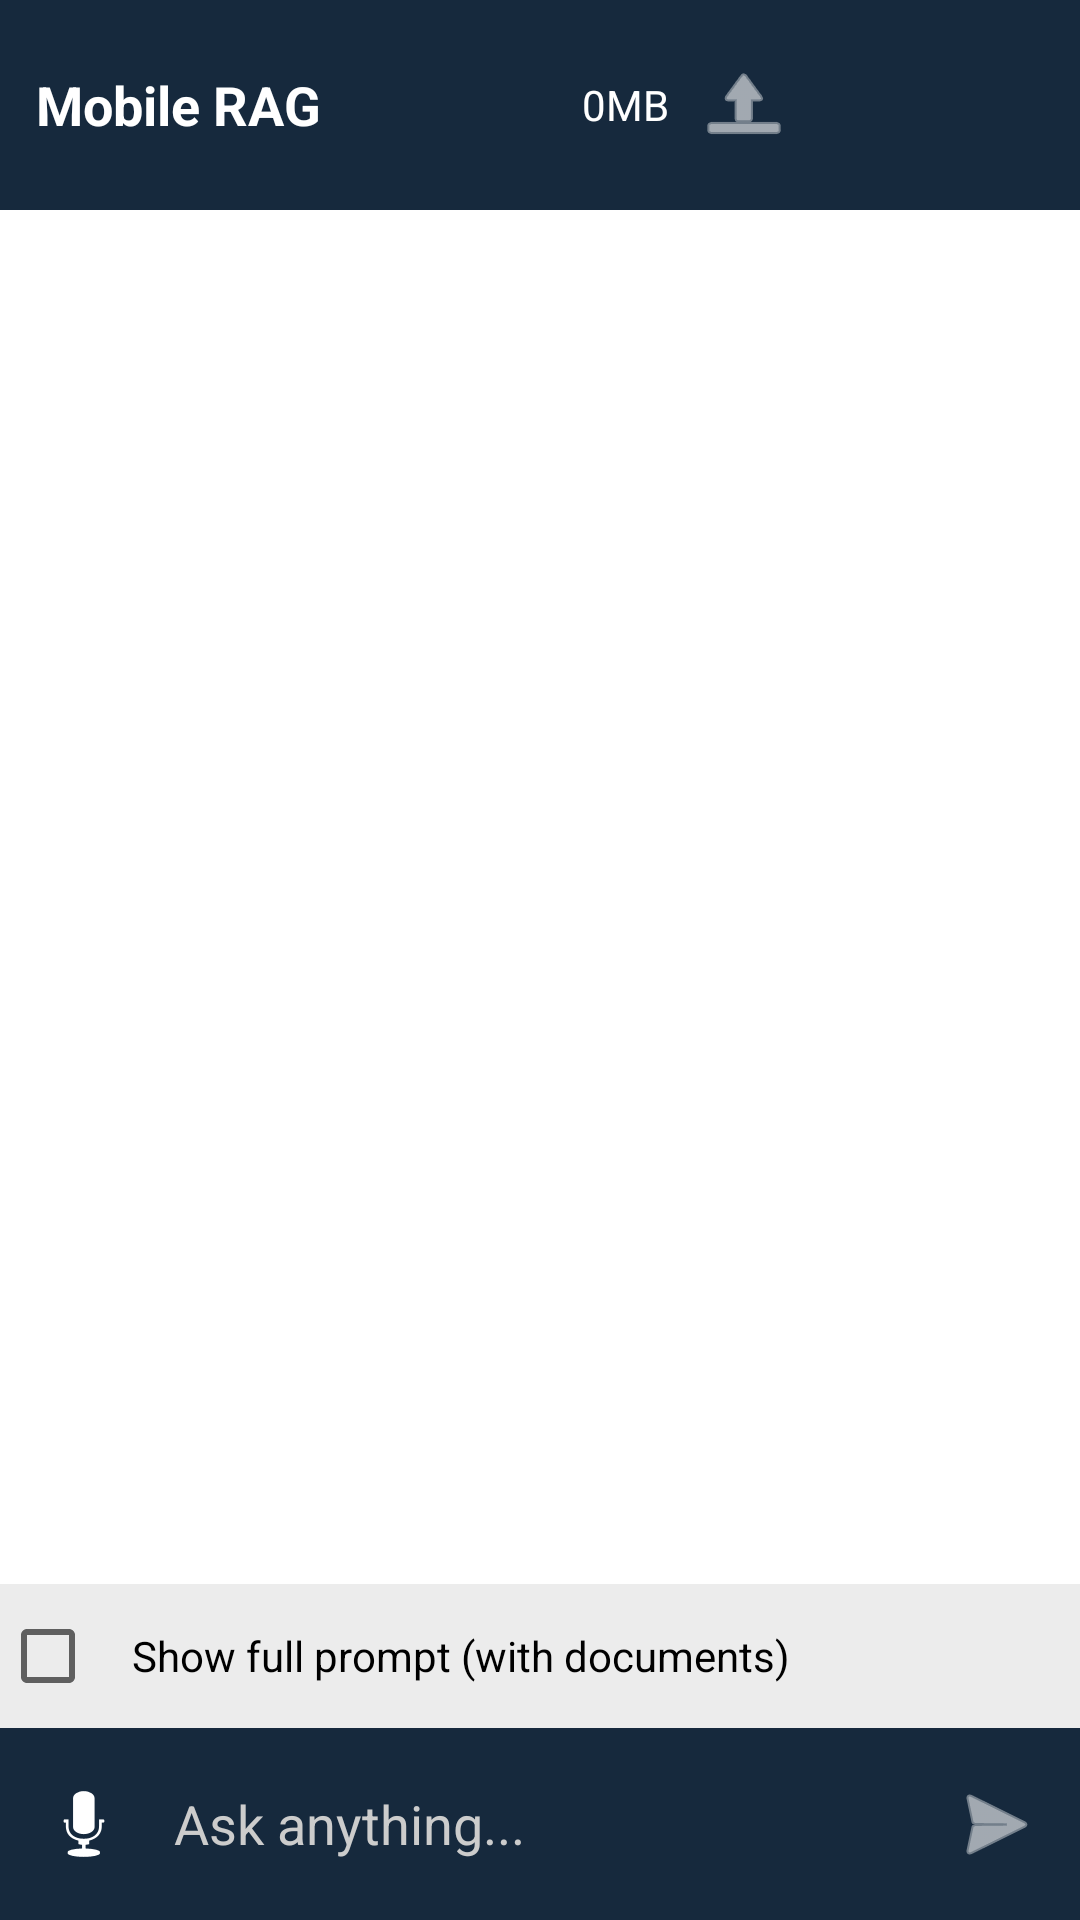

Locate icon controls on the screen. Image size 1080px×1920px, boxes as (x1, y1, x2, y2).
Load Model: (707, 73, 781, 134)
Send: (966, 1794, 1028, 1855)
